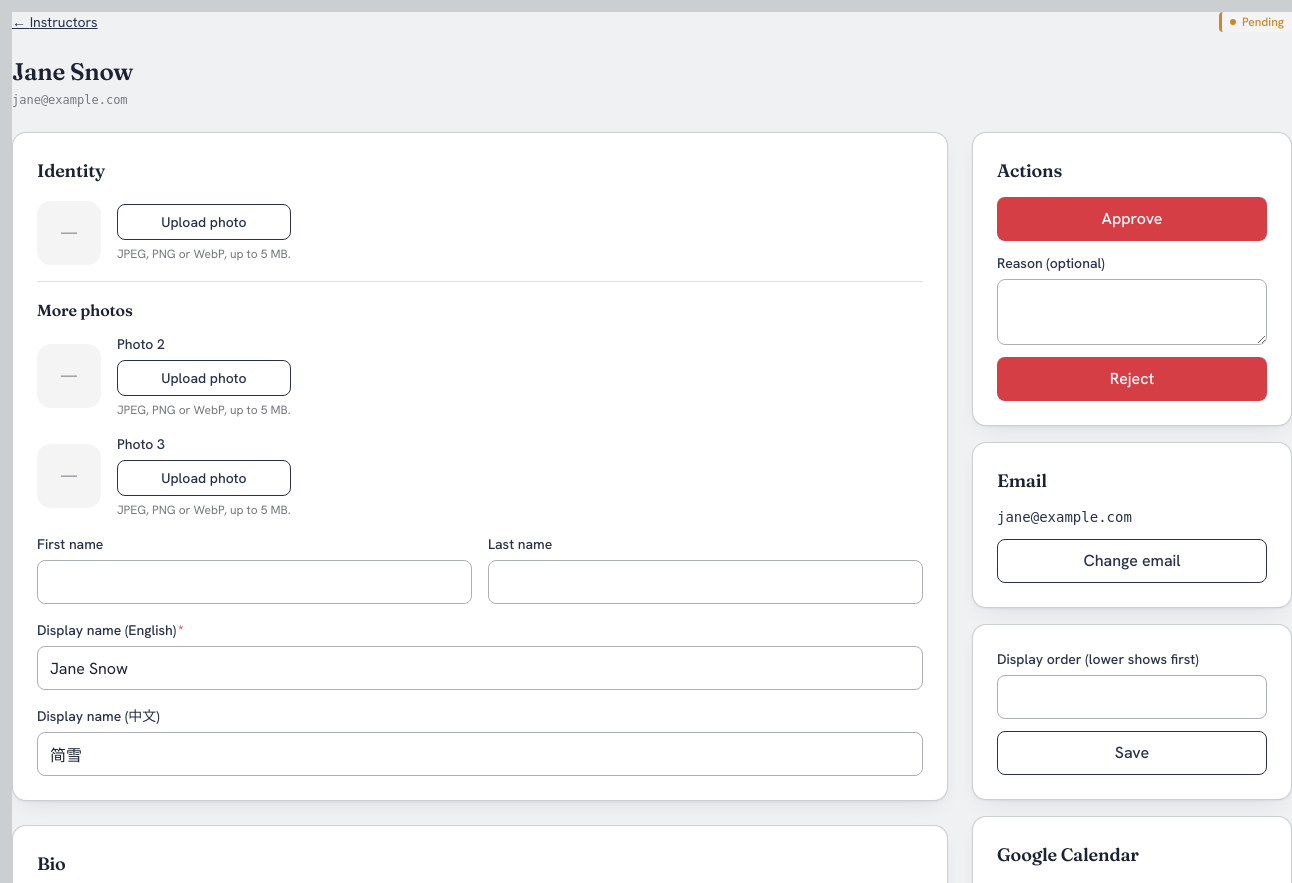
Test: AdminDetailPage actions › shows the rejected status right after rejecting
Type "Missing certs" into the text box labelled "Reason (optional)" at point(1132, 312), box [997,279,1267,345]
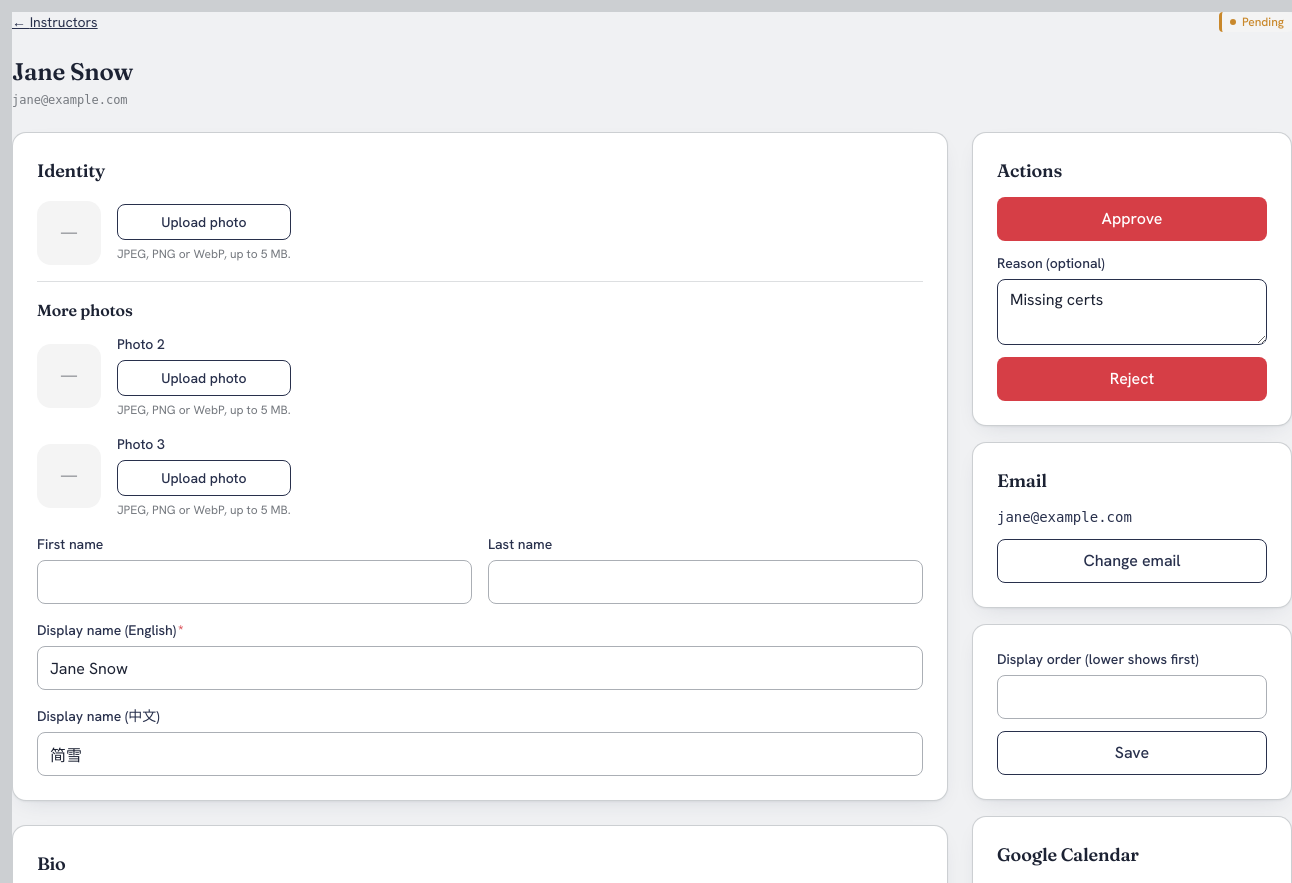
Click the 2nd button named "Reject" at point(1132, 379), box [997,357,1267,401]
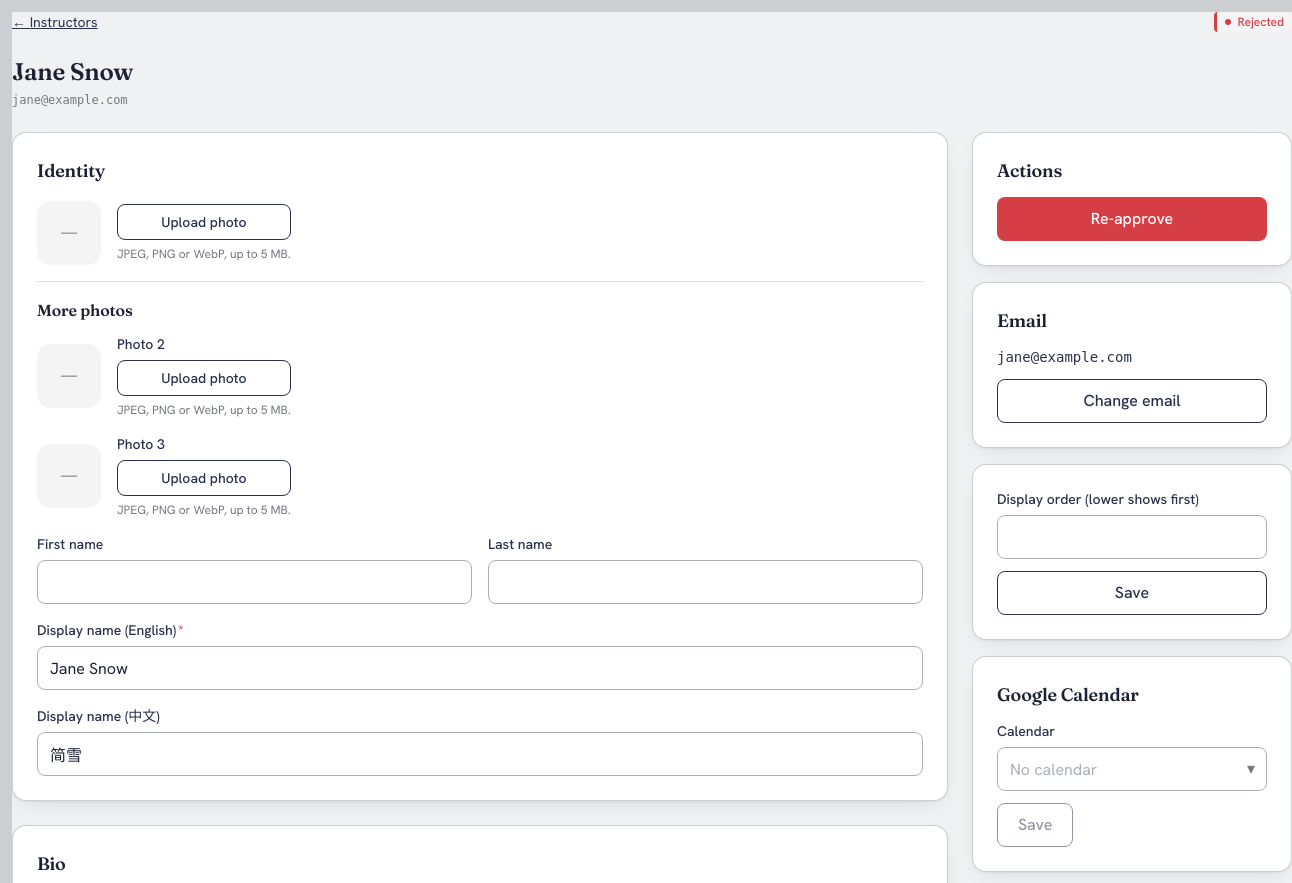
Now the text "Rejected" is shown, box [1237,14,1284,30]
Now the text "Pending" is gone
